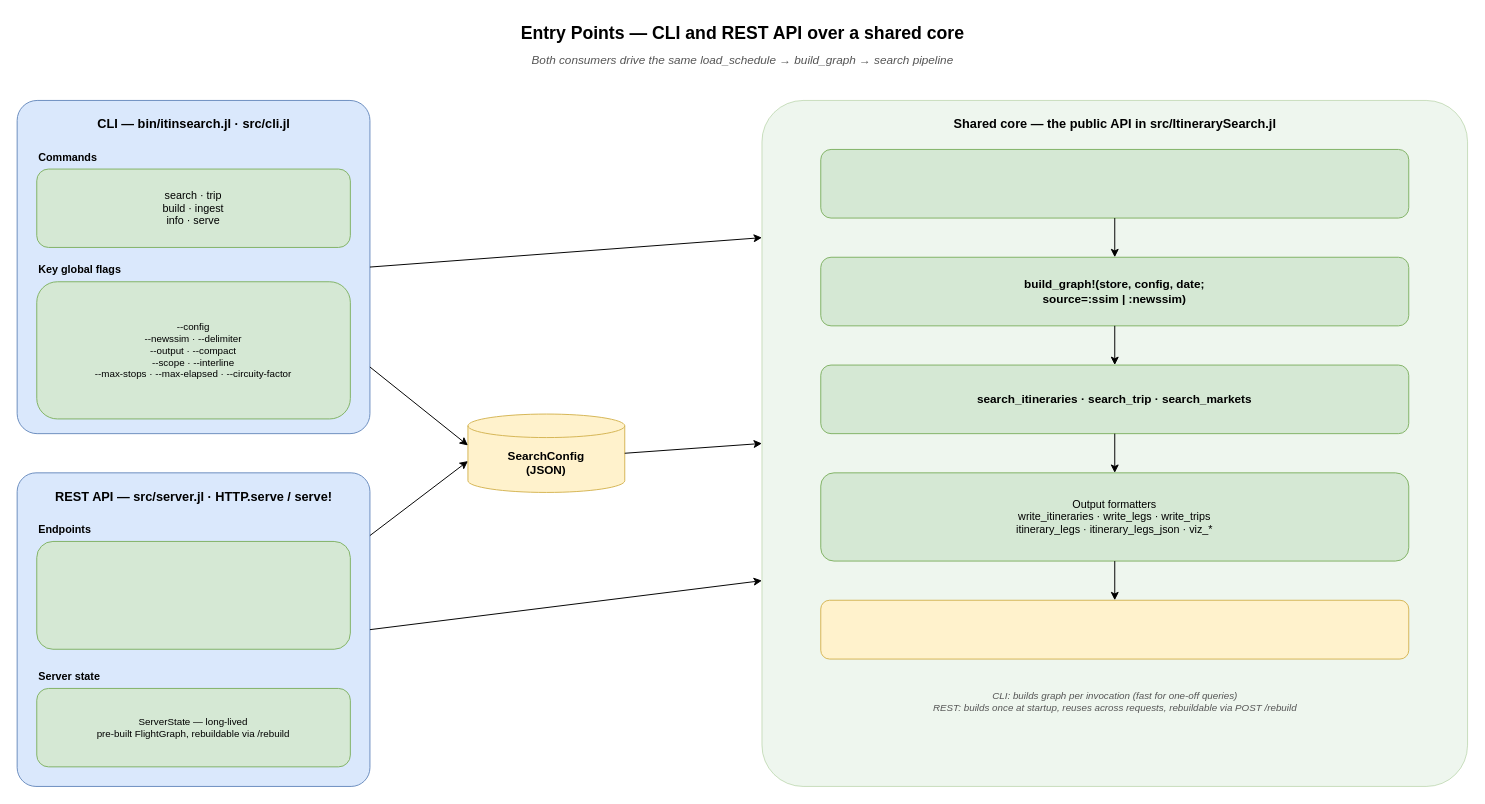
This 1485x804 diagram has some shape labels left out. The centre of each missing label's shape, as x and y in pixels:
"DuckDBStore() + load_schedule!(store, config)" goes at point 1114,183.
"POST /search POST /trip GET /station/ GET /health POST /rebuild" goes at point 193,594.
"Serialized output: JSON · CSV · HTML" goes at point 1114,629.
